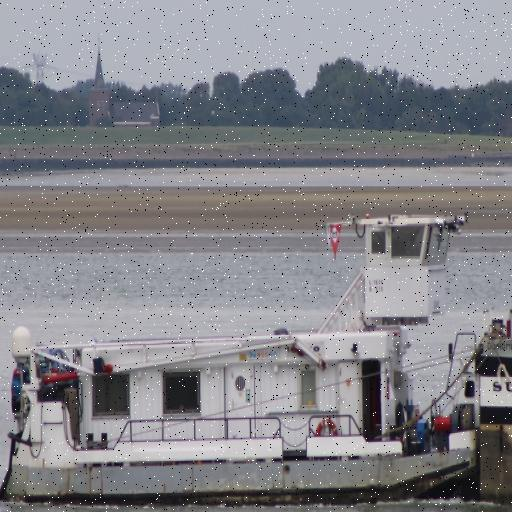tugboat: (1, 207, 497, 512)
